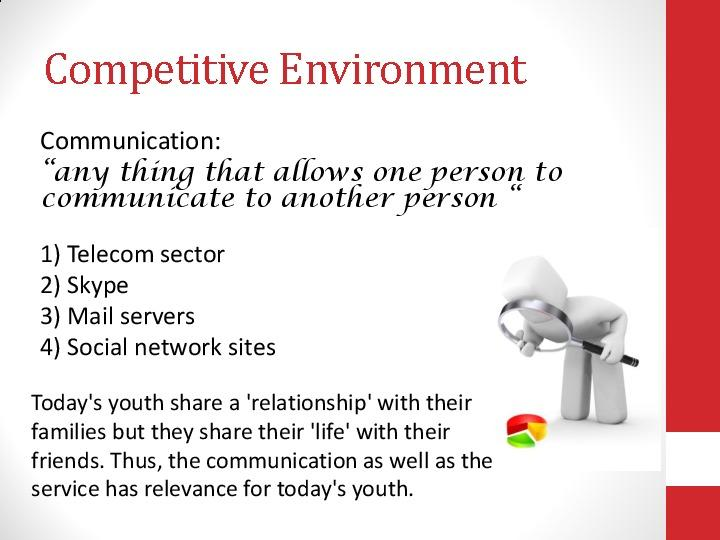paragraph: (25, 121, 583, 521)
title: (35, 35, 545, 105)
